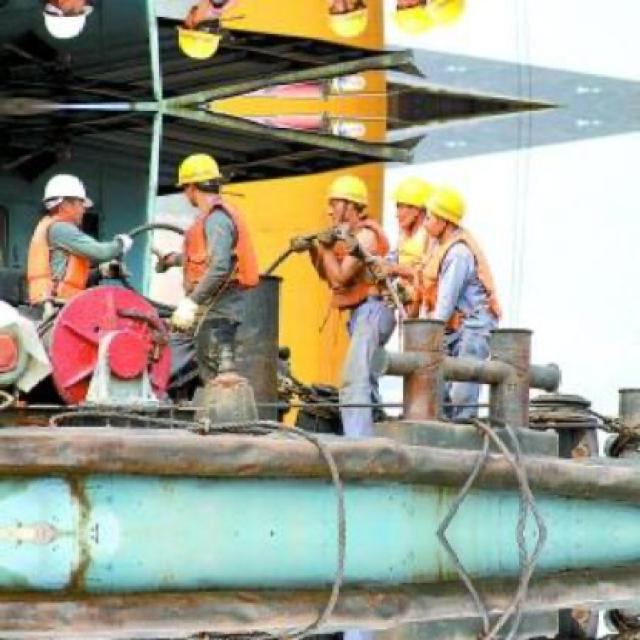con casco: (415, 172, 518, 323), (164, 138, 232, 220), (322, 182, 383, 239), (43, 172, 95, 238)
